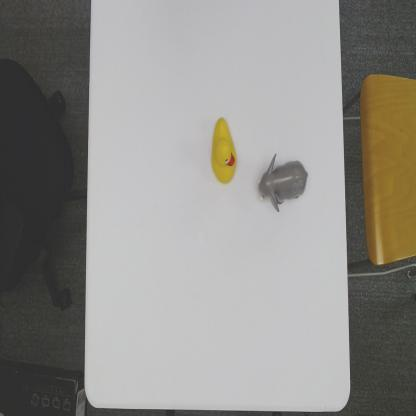Duck: (210, 114, 238, 186)
Elephant: (257, 150, 309, 214)
